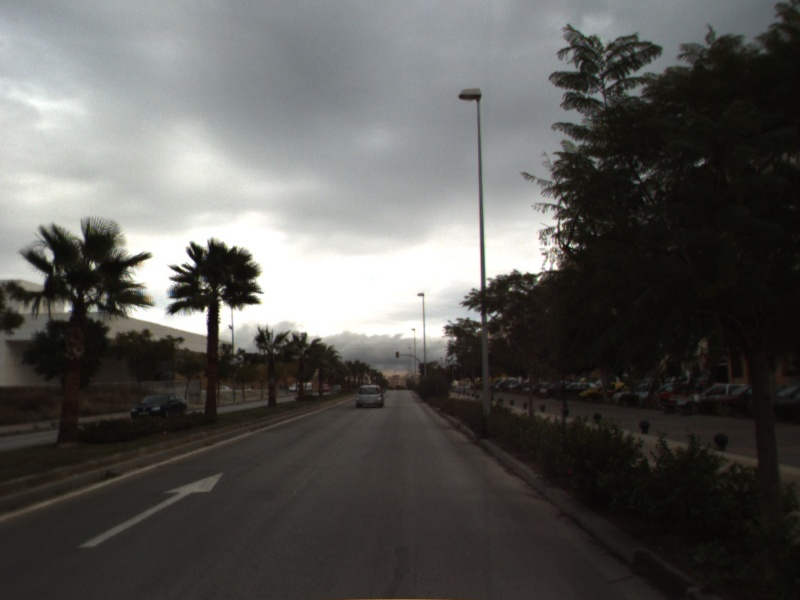STRAIGHT: (77, 470, 225, 549)
